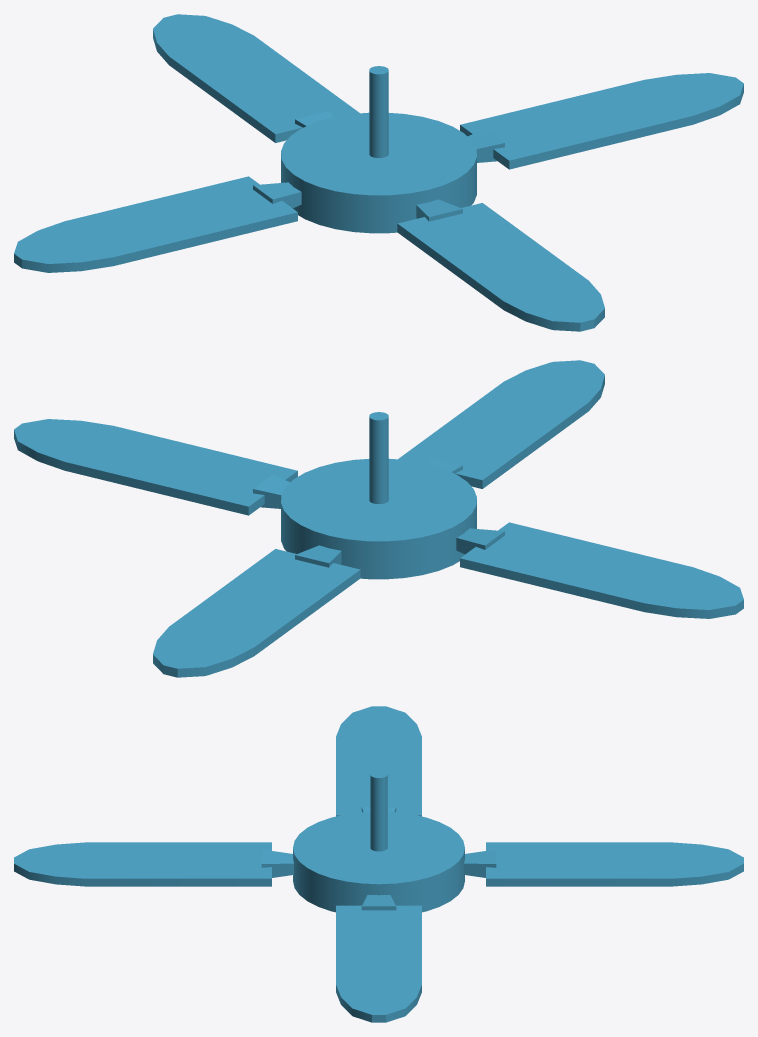
The model's file is fan.fbx.
3 views of the same model, one above another, from view 1: azimuth 30°, elevation 25°; view 2: azimuth 150°, elevation 25°; view 3: azimuth 270°, elevation 25° (orthographic). The views are drawn at different scales.
Visible parts, largest first — view 1: Cube.002; view 2: Cube.002; view 3: Cube.002.
Part boxes in pixels (x1=…): Cube.002: x1=14, y1=14, x2=743, y2=331; Cube.002: x1=14, y1=360, x2=743, y2=677; Cube.002: x1=14, y1=706, x2=743, y2=1022.
Size of the model in its own units: 4.24 by 0.6835 by 4.24.
